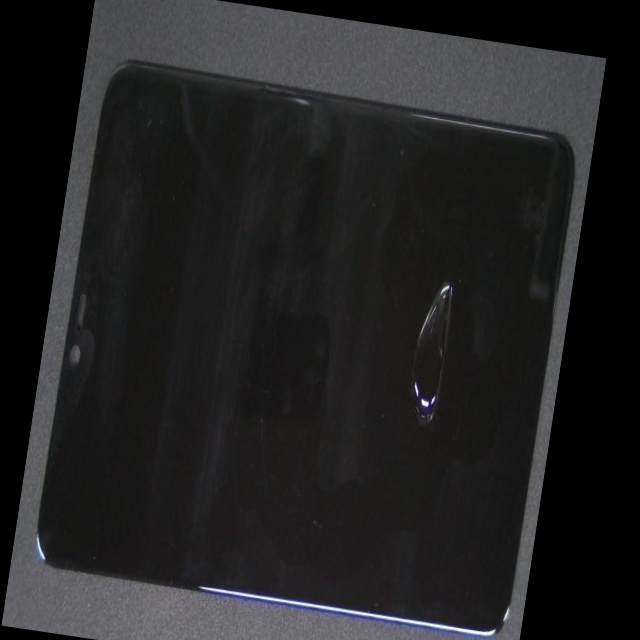oil: (219, 236, 573, 576)
